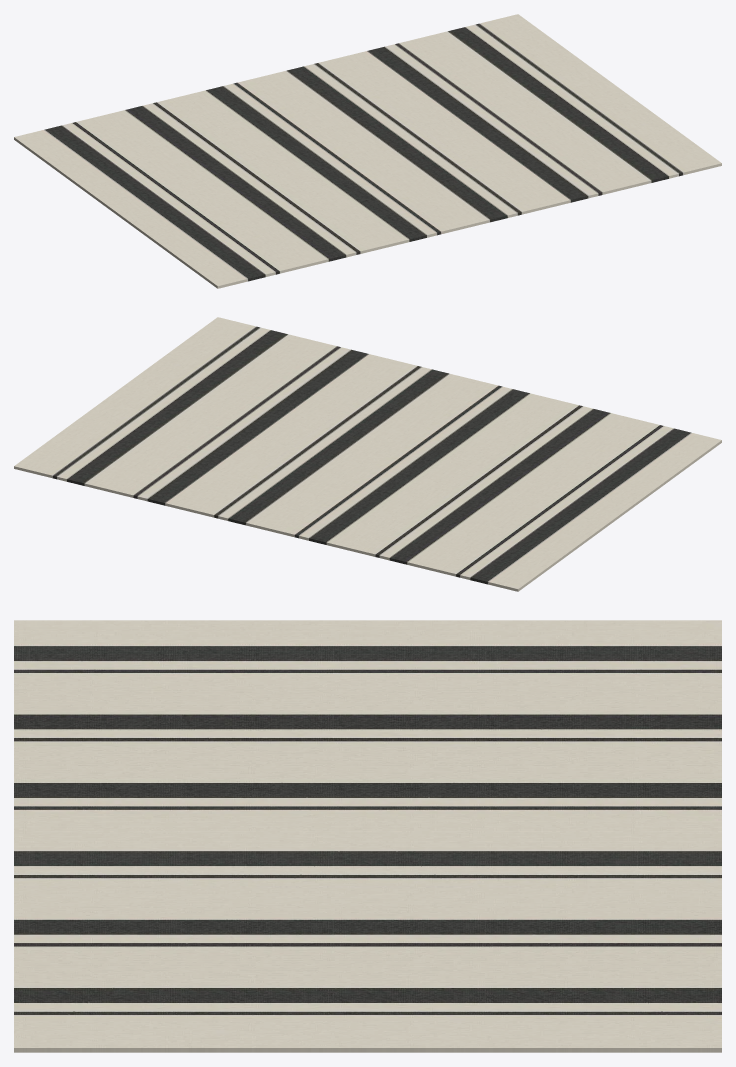
File: alfombra_rayas_140x200.glb
3 renders of one model, top to bottom at view 1: azimuth 30°, elevation 25°; view 2: azimuth 150°, elevation 25°; view 3: azimuth 270°, elevation 25°, orthographic. The views are drawn at different scales.
Parts seen in each view (by area): view 1: alfombra_rayas_140x200; view 2: alfombra_rayas_140x200; view 3: alfombra_rayas_140x200.
Part boxes in pixels (box(x1,y1,x2,y2)): alfombra_rayas_140x200: box(14, 14, 721, 288); alfombra_rayas_140x200: box(14, 317, 721, 591); alfombra_rayas_140x200: box(14, 620, 721, 1052).
Size of the model in its own units: 2 by 0.01 by 1.4.
1 material, 1 textured.
